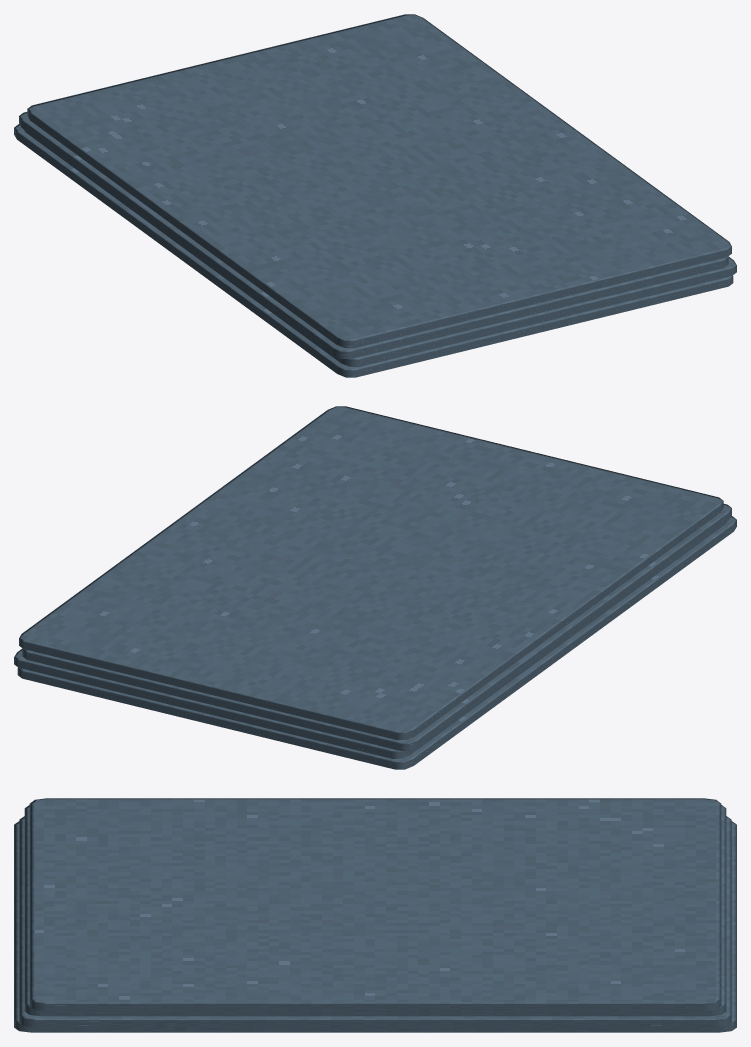
File: blanket-bed.glb
The picture shows the model from 3 angles, top to bottom: view 1: azimuth 30°, elevation 25°; view 2: azimuth 150°, elevation 25°; view 3: azimuth 270°, elevation 25°; orthographic projection. The views are drawn at different scales.
Visible parts, largest first — view 1: fold (×4); view 2: fold (×4); view 3: fold (×4).
Part boxes in pixels (<box>): fold (×4): <box>14,14,736,377</box>; fold (×4): <box>14,406,736,769</box>; fold (×4): <box>14,798,736,1032</box>.
Bounding box in the file's own units: 0.9653 × 0.0693 × 1.41.
Materials: 1 (1 with a texture image).
